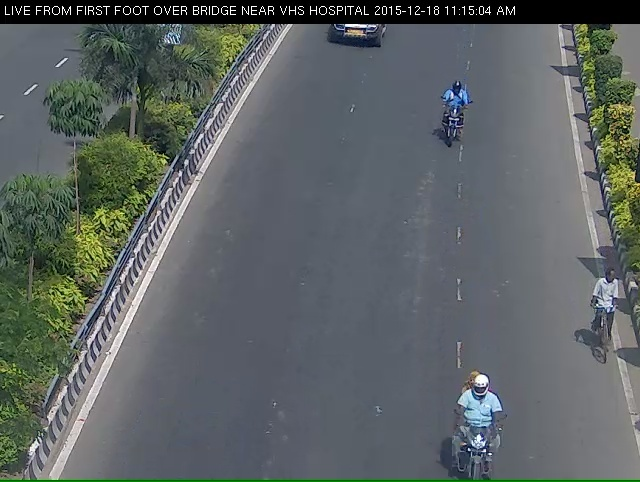Person: (447, 387, 509, 477), (436, 88, 469, 158)
